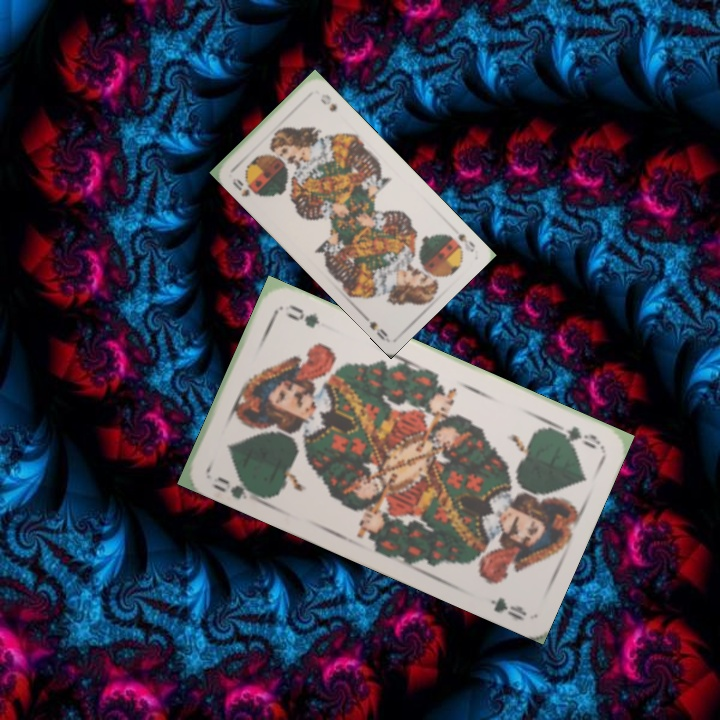GO: (544, 417, 603, 452), (207, 472, 263, 503)
SO: (228, 174, 252, 200), (454, 230, 478, 255)
